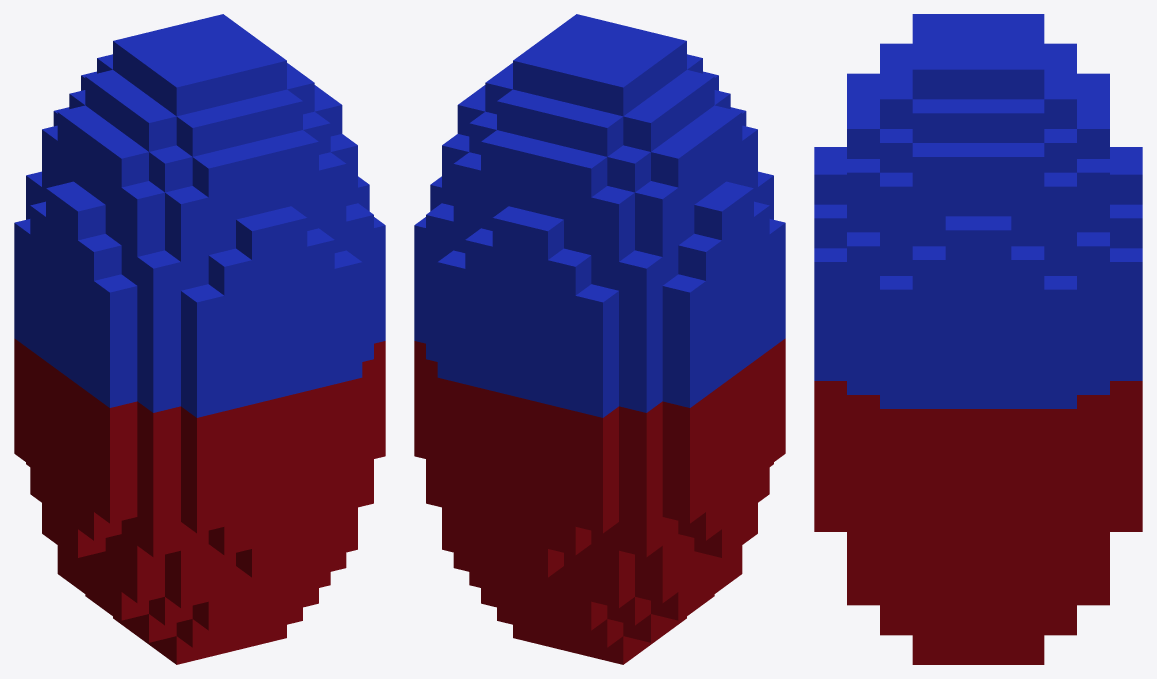
File: capsule_blue_red.fbx
3 views of the same model, side by side, from view 1: azimuth 30°, elevation 25°; view 2: azimuth 150°, elevation 25°; view 3: azimuth 270°, elevation 25° (orthographic). The views are drawn at different scales.
Parts seen in each view (by area): view 1: Matrix; view 2: Matrix; view 3: Matrix.
Boxes of the visible parts, <box> form: Matrix: <box>14,14,385,664</box>; Matrix: <box>414,14,785,664</box>; Matrix: <box>814,14,1142,664</box>.
Size of the model in its own units: 10 by 20 by 10.
